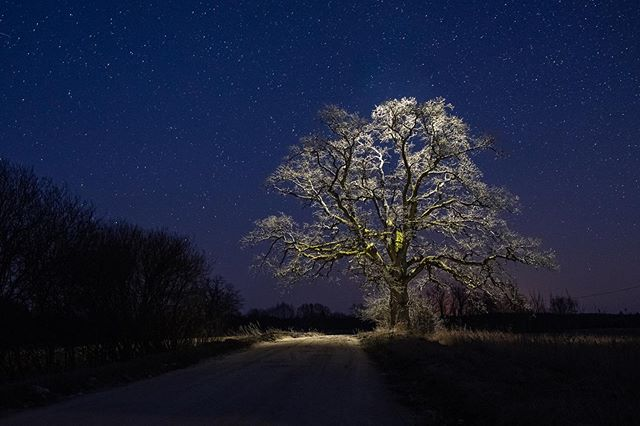sky: (1, 1, 610, 255)
tree: (236, 100, 542, 337)
vegetation: (1, 188, 225, 348)
